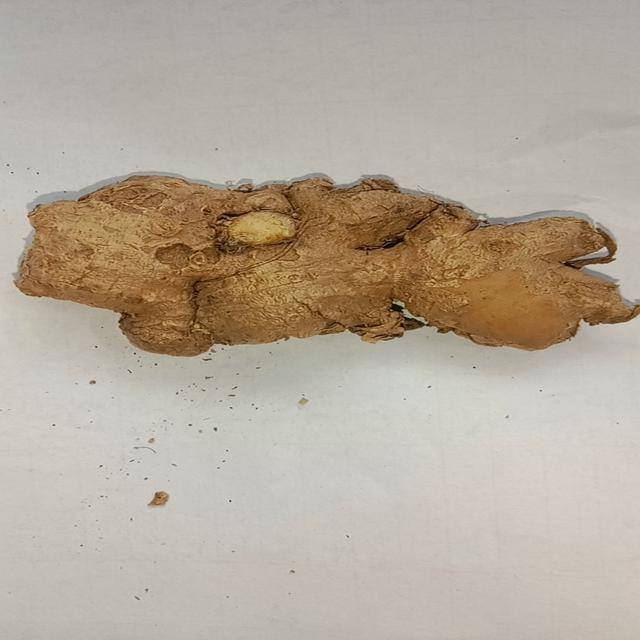ginger: (19, 174, 638, 358)
